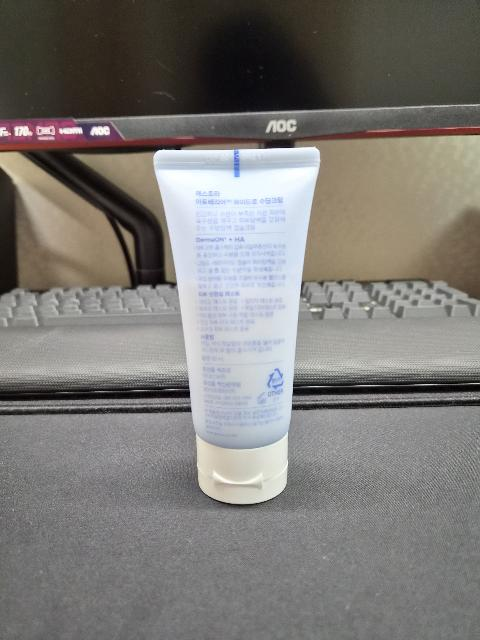handcream: (154, 146, 320, 504)
